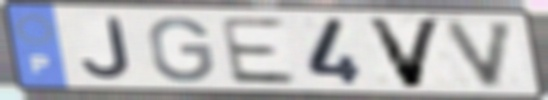4: (302, 14, 372, 89)
E: (215, 15, 301, 86)
G: (145, 14, 217, 85)
J: (79, 16, 136, 82)
V: (362, 15, 448, 91), (440, 19, 521, 91)
